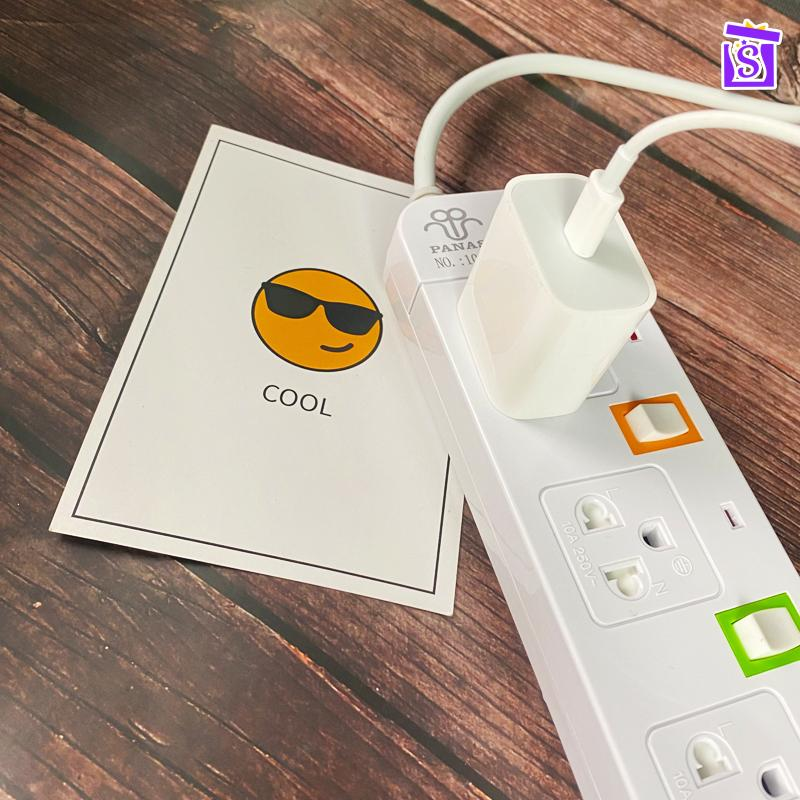Three_eye_plug: (379, 155, 800, 800)
